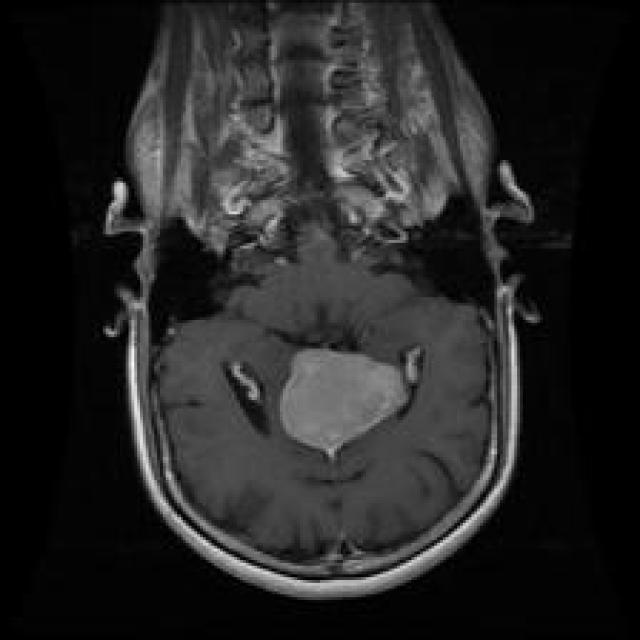meningioma_tumor: (270, 340, 416, 467)
